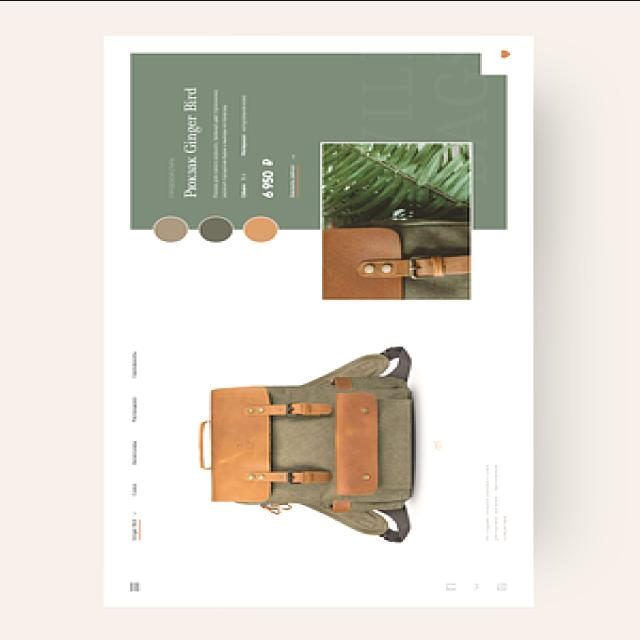backpack: (197, 347, 415, 544)
